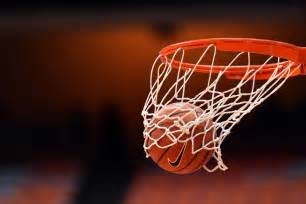basketball: (142, 102, 216, 177)
